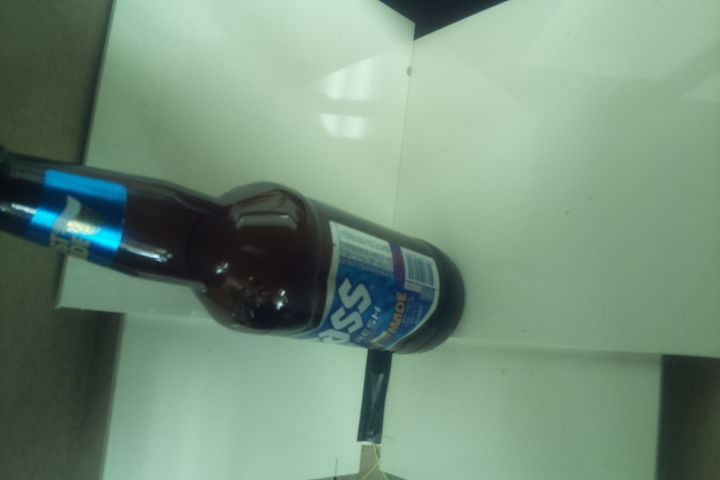makju: (1, 143, 466, 357)
